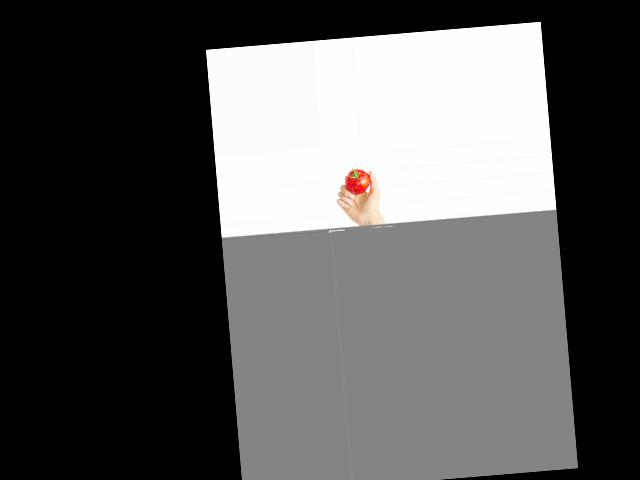tomato: (344, 167, 371, 195)
